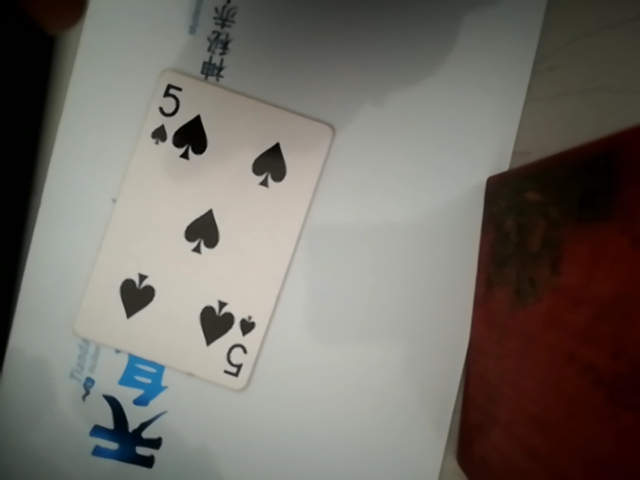ht 5: (82, 41, 321, 388)
